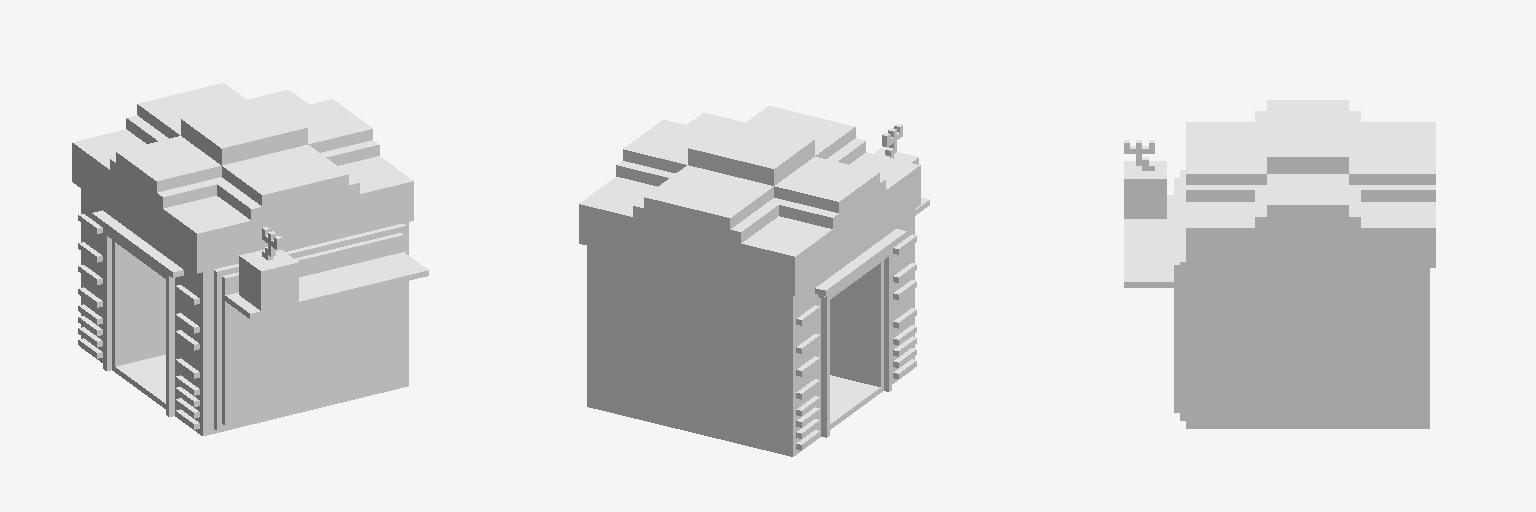
Rendered from MainTower-4.obj.
The picture shows the model from 3 angles: view 1: azimuth 30°, elevation 25°; view 2: azimuth 150°, elevation 25°; view 3: azimuth 270°, elevation 25°; orthographic projection.
Parts seen in each view (by area): view 1: object 1; view 2: object 1; view 3: object 1.
Boxes of the visible parts, box(x1,y1,x2,y2) form: object 1: box(72, 83, 428, 435); object 1: box(579, 106, 929, 456); object 1: box(1124, 100, 1435, 428).
Size of the model in its own units: 4.1 by 4.3 by 5.